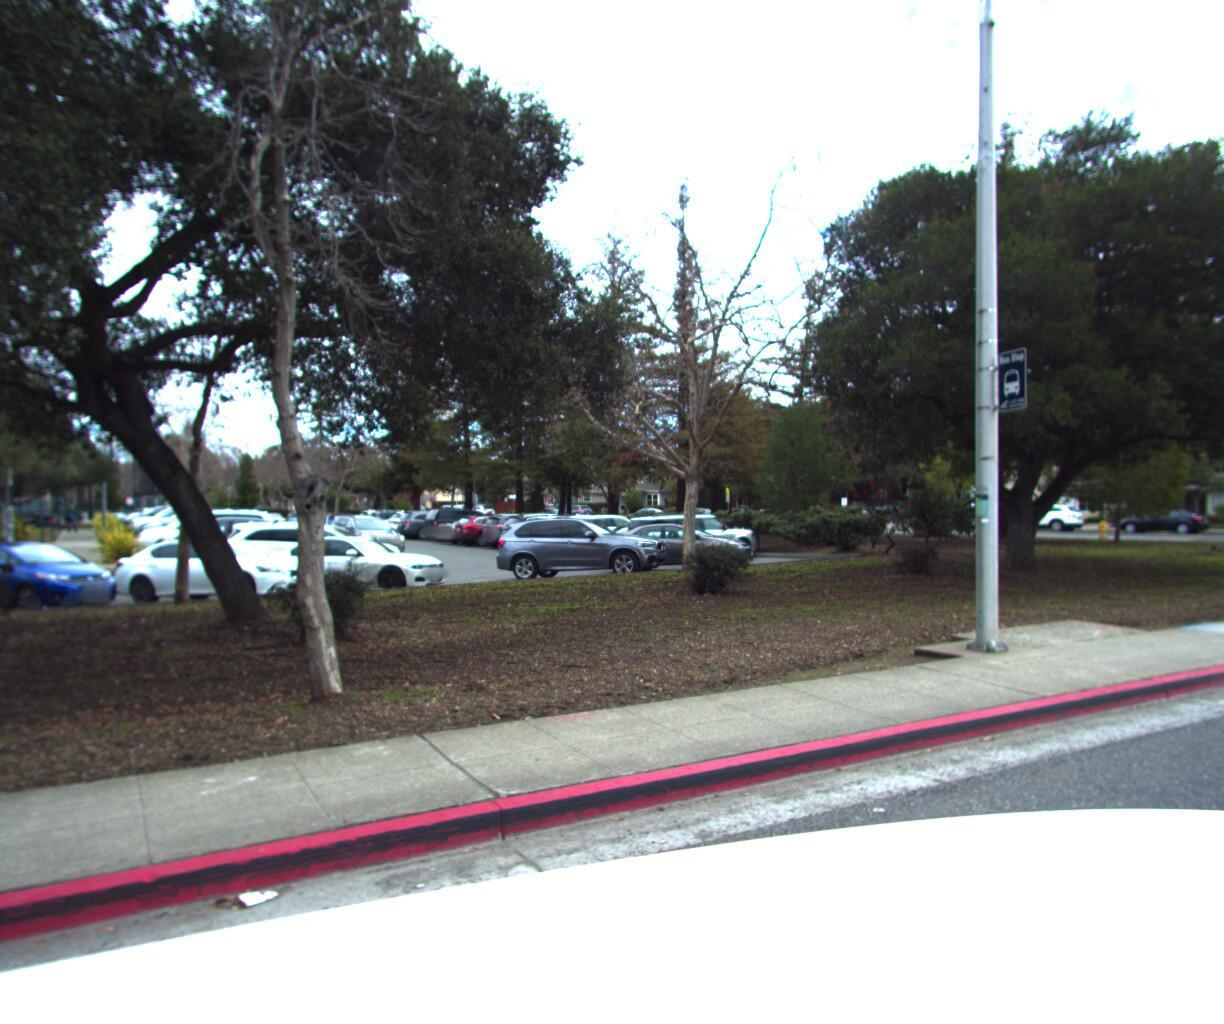car: (1000, 496, 1095, 527), (1118, 501, 1219, 530)
